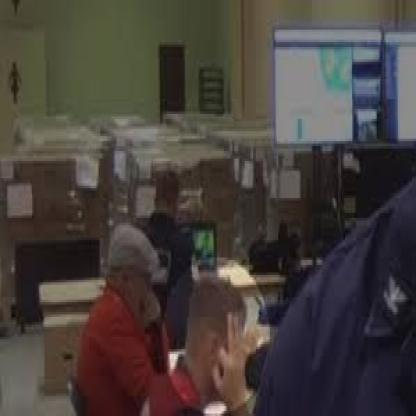ok: (209, 306, 248, 405)
